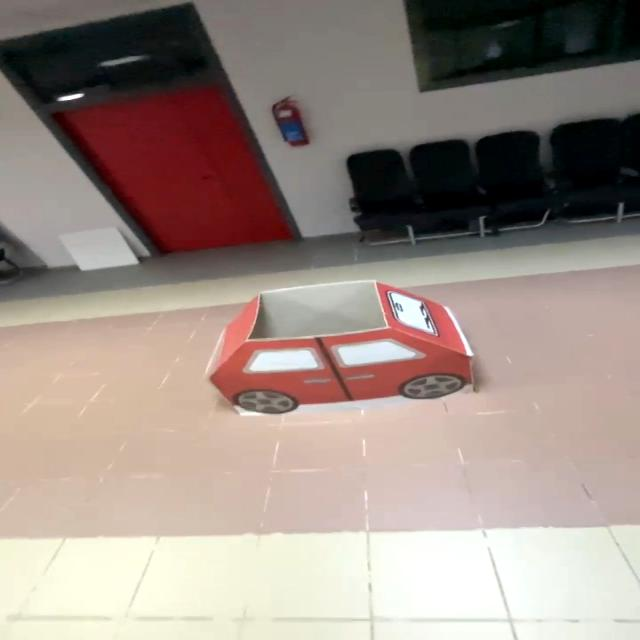red_car: (183, 275, 523, 439)
